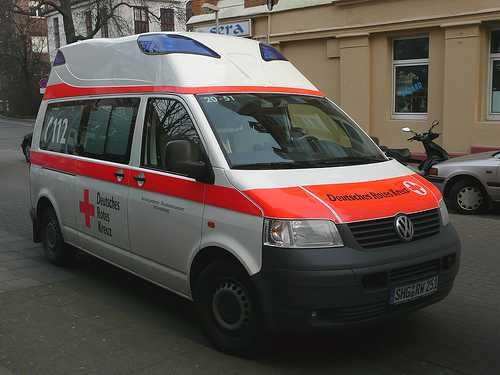Ambulance: (33, 15, 469, 333)
